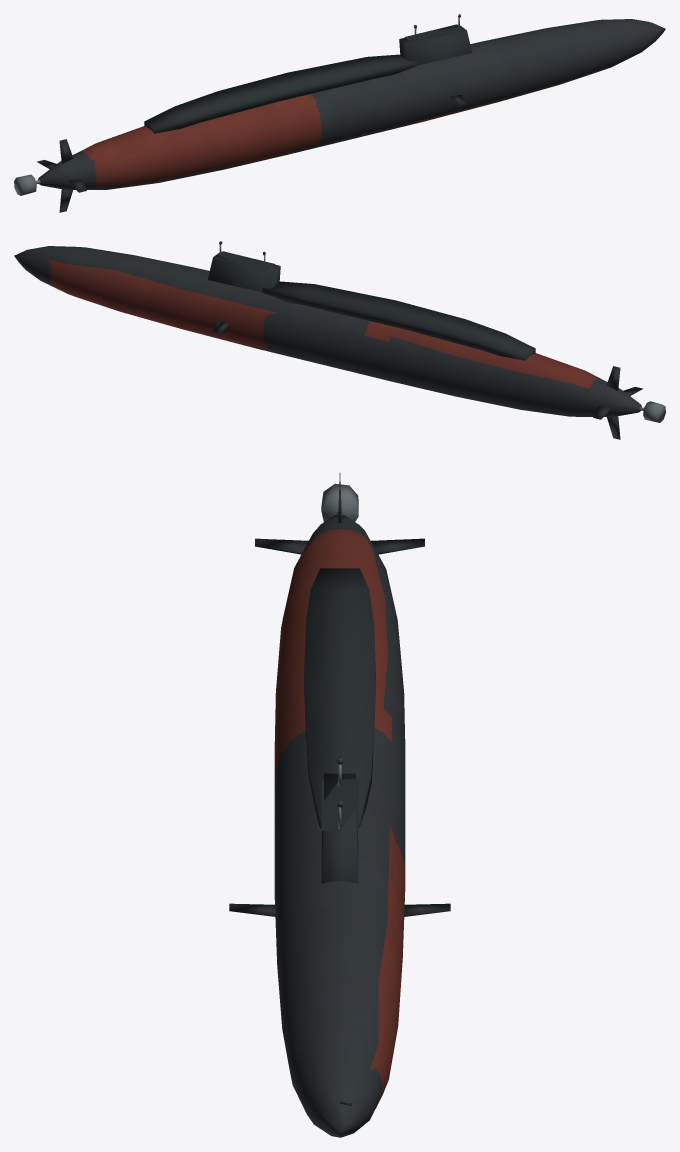
Rendered from FR_SSBN_LeTriomphant_LOD3.fbx.
3 views of the same model, one above another, from view 1: azimuth 30°, elevation 25°; view 2: azimuth 150°, elevation 25°; view 3: azimuth 270°, elevation 25° (orthographic). The views are drawn at different scales.
Visible parts, largest first — view 1: FR_SSBN_LeTriomphant_LOD3; view 2: FR_SSBN_LeTriomphant_LOD3; view 3: FR_SSBN_LeTriomphant_LOD3.
Boxes of the visible parts, left/top/right/bottom form: FR_SSBN_LeTriomphant_LOD3: left=14, top=14, right=665, bottom=212; FR_SSBN_LeTriomphant_LOD3: left=14, top=241, right=665, bottom=439; FR_SSBN_LeTriomphant_LOD3: left=229, top=473, right=450, bottom=1137.
Size of the model in its own units: 143 by 21.12 by 21.2.
Materials: 6 (1 with a texture image).
